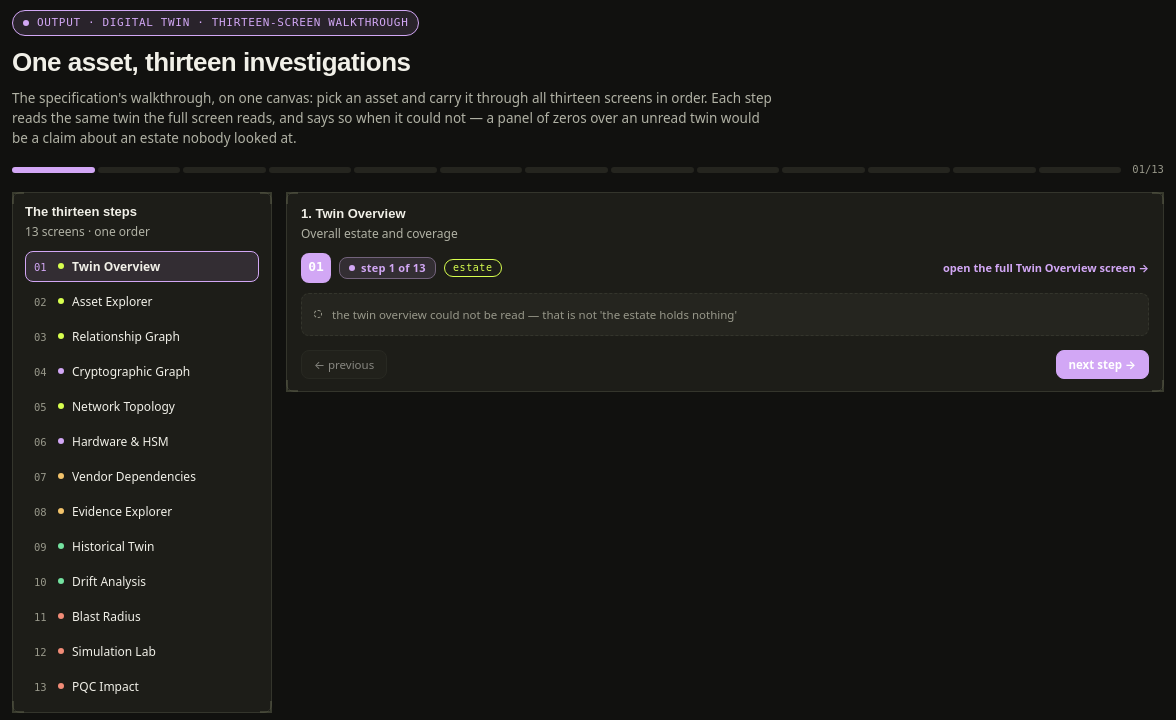
Test: prints an unreadable twin as a failure, never as a zero
The width and height of the screenshot is (1176, 720).
Expected: the text "that is not 'the estate holds nothing'" is shown, [332,307,737,322]
Click the button "10 Drift Analysis".
click(142, 581)  # box [25,566,259,597]
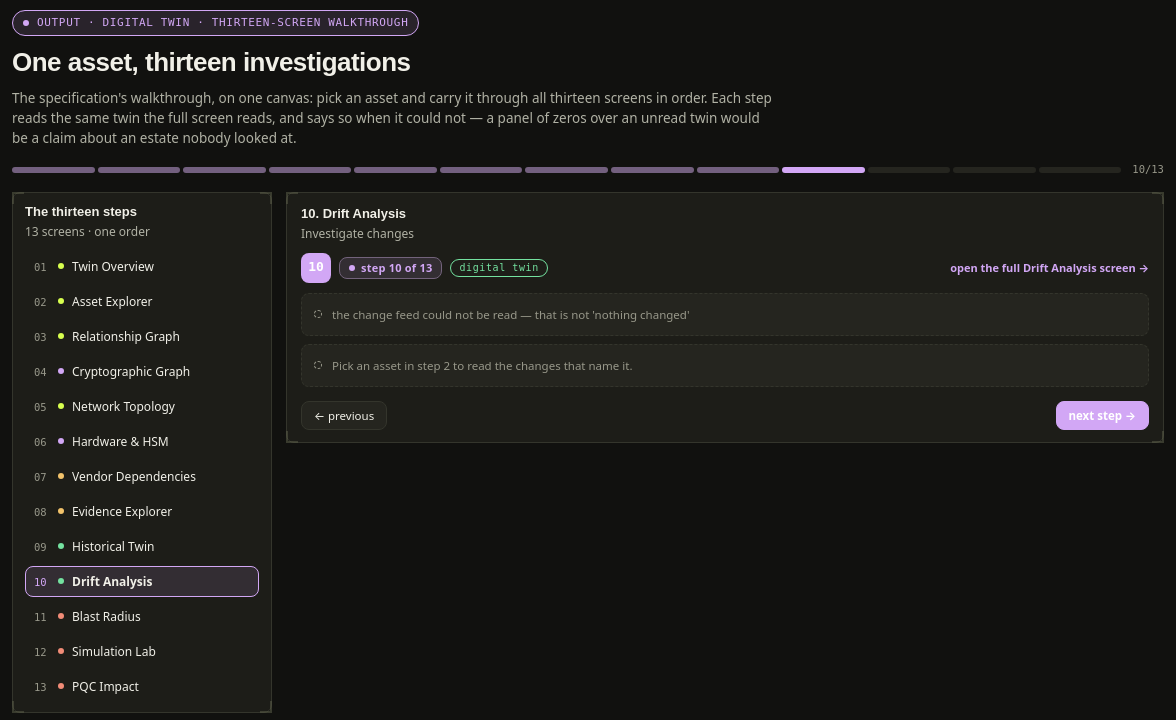
Expected: the text "that is not 'nothing changed'" is shown, [332,307,690,322]
